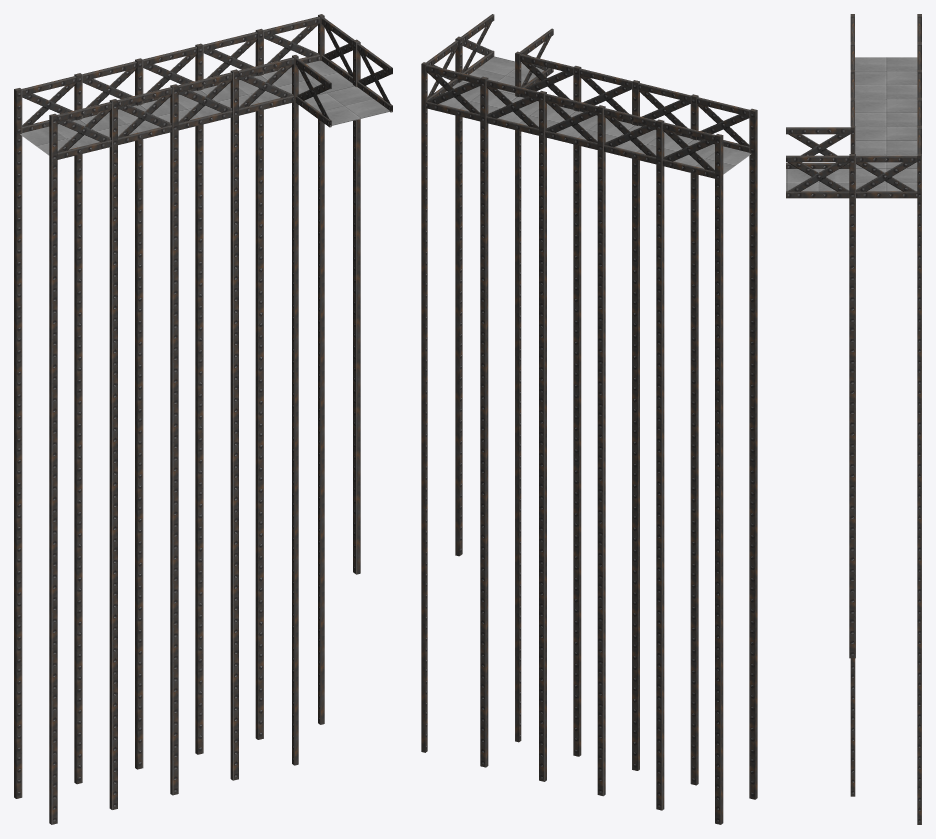
File: Catwalk_LShape_Long_Right.fbx
3 views of the same model, side by side, from view 1: azimuth 30°, elevation 25°; view 2: azimuth 150°, elevation 25°; view 3: azimuth 270°, elevation 25° (orthographic). The views are drawn at different scales.
Parts seen in each view (by area): view 1: Catwalk_LPiece_Left; view 2: Catwalk_LPiece_Left; view 3: Catwalk_LPiece_Left.
Part boxes in pixels (left/top/right/bottom): Catwalk_LPiece_Left: left=14, top=14, right=392, bottom=824; Catwalk_LPiece_Left: left=421, top=14, right=757, bottom=824; Catwalk_LPiece_Left: left=786, top=14, right=921, bottom=824.
Size of what is drawn, in the model's own units: 2324 by 5105 by 939.
